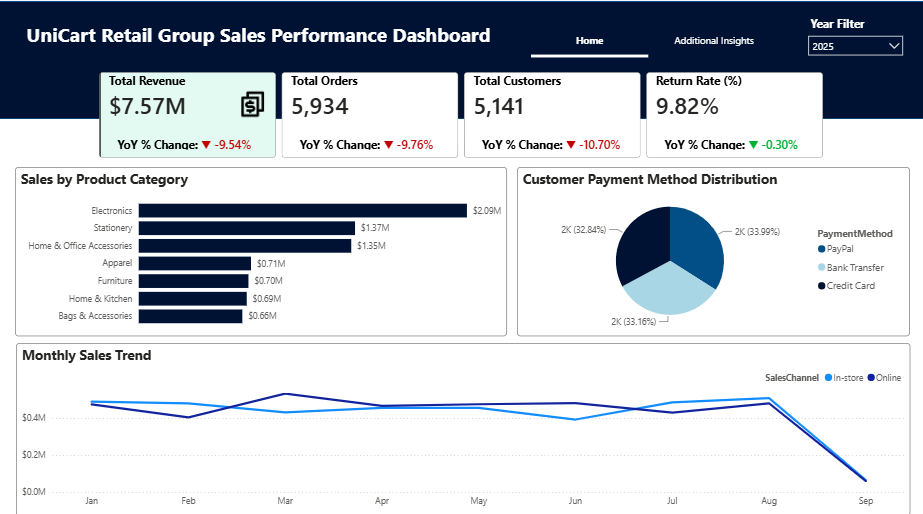

Layout of this report page (visuals, bound fields, positions):
{"tool":"powerbi","page":{"name":"Home","canvas":[1280,720],"ordinal":0},"visuals":[{"type":"shape","box":[0,0,1280,101.6],"z":0},{"type":"slicer","fields":{"Values":["DateTable.Year"]},"box":[1125.8,16.7,133.8,66],"z":1000},{"type":"cardVisual","fields":{"Data":["_Measures.Total Sales","_Measures.Total Transactions","_Measures.Total Customers","_Measures.ReturnRate"]},"box":[75.3,101.6,1128.5,160.2],"z":2000},{"type":"lineChart","title":"Monthly Sales Trend Across Sales Channels","fields":{"Y":["Sum(SalesData.Sales)"],"Category":["DateTable.Month Name"],"Series":["SalesData.SalesChannel"]},"box":[12.3,261.8,627.7,429],"z":3000},{"type":"barChart","title":"Sales by Product Category","fields":{"Category":["SalesData.Product Category"],"Y":["Sum(SalesData.Sales)"]},"box":[649.6,261.8,621.6,429],"z":4000},{"type":"pageNavigator","box":[686.4,23.2,399.4,50.2],"z":5000},{"type":"textbox","box":[26.8,16.9,577.4,63.5],"z":6000}]}

Visuals, with their boxes in screenshot pixels (x1, y1, x2, y2), scaled from the page's 1280x720 canvas onto the 923x514 screenshot:
shape: 0/0/922/73
slicer - DateTable.Year: 812/12/908/59
cardVisual - _Measures.Total Sales x _Measures.Total Transactions: 54/73/868/187
"Monthly Sales Trend Across Sales Channels" lineChart: 9/187/462/493
"Sales by Product Category" barChart: 468/187/917/493
pageNavigator: 495/17/783/52
textbox: 19/12/436/57
